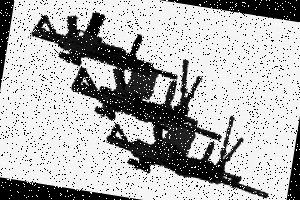rifle: (92, 105, 271, 200), (17, 0, 183, 85)
